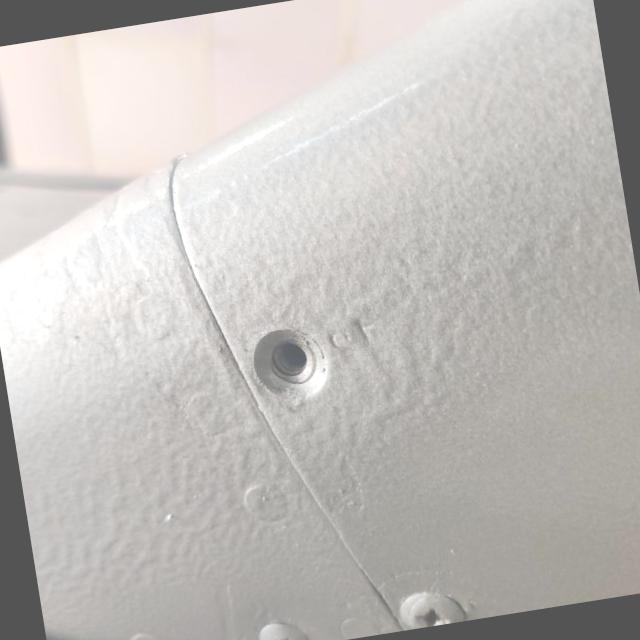Missing Fastener: (250, 323, 332, 411)
